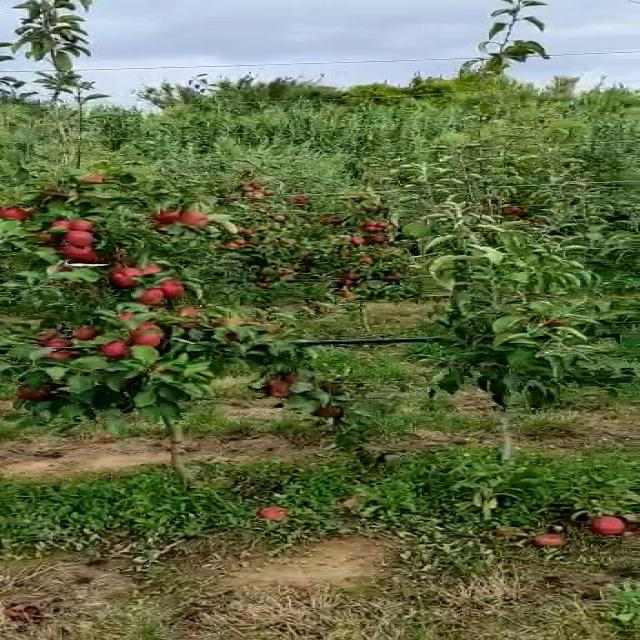100-_ripeness: (56, 243, 106, 261), (125, 324, 156, 346), (104, 269, 136, 290), (100, 341, 135, 356), (69, 229, 100, 244), (1, 202, 24, 221), (144, 291, 171, 305), (71, 219, 93, 235), (184, 211, 202, 230)
